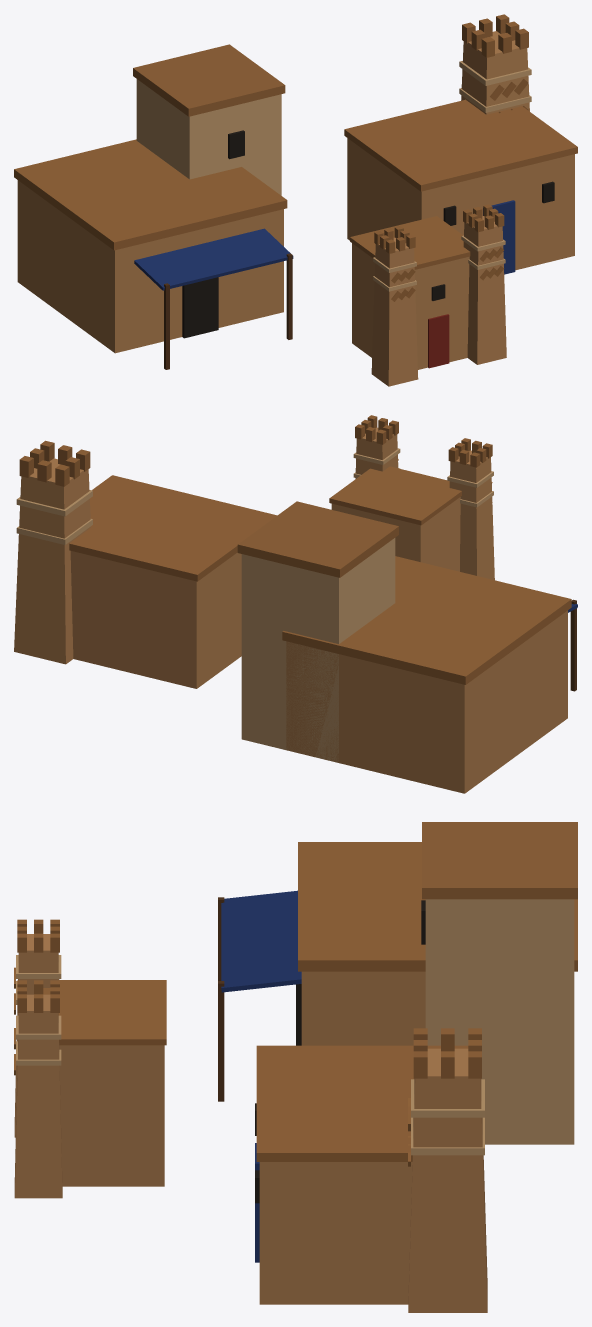
Rendered from fennec_compound_broken.glb.
3 views of the same model, one above another, from view 1: azimuth 30°, elevation 25°; view 2: azimuth 150°, elevation 25°; view 3: azimuth 270°, elevation 25° (orthographic). The views are drawn at different scales.
Parts seen in each view (by area): view 1: fennec_compound_piece1, fennec_compound_piece7, fennec_compound_piece2, fennec_compound_piece0, fennec_compound_piece10, fennec_compound_piece3, fennec_compound_piece6, fennec_compound_piece11, fennec_compound_piece4, fennec_compound_piece5, fennec_compound_piece13; view 2: fennec_compound_piece1, fennec_compound_piece2, fennec_compound_piece3, fennec_compound_piece6, fennec_compound_piece7, fennec_compound_piece0, fennec_compound_piece9, fennec_compound_piece13, fennec_compound_piece4, fennec_compound_piece10, fennec_compound_piece5; view 3: fennec_compound_piece2, fennec_compound_piece3, fennec_compound_piece7, fennec_compound_piece10, fennec_compound_piece0, fennec_compound_piece11, fennec_compound_piece6, fennec_compound_piece5, fennec_compound_piece1, fennec_compound_piece4.
Boxes of the visible parts, left/top/right/bottom form: fennec_compound_piece1: left=14, top=154, right=209, bottom=369; fennec_compound_piece7: left=351, top=204, right=506, bottom=386; fennec_compound_piece2: left=133, top=44, right=285, bottom=224; fennec_compound_piece0: left=88, top=142, right=292, bottom=339; fennec_compound_piece10: left=457, top=119, right=577, bottom=274; fennec_compound_piece3: left=349, top=41, right=539, bottom=240; fennec_compound_piece6: left=344, top=14, right=528, bottom=202; fennec_compound_piece11: left=208, top=193, right=293, bottom=293; fennec_compound_piece4: left=347, top=120, right=454, bottom=239; fennec_compound_piece5: left=364, top=170, right=470, bottom=235; fennec_compound_piece13: left=76, top=141, right=131, bottom=168; fennec_compound_piece1: left=333, top=591, right=577, bottom=793; fennec_compound_piece2: left=237, top=501, right=475, bottom=735; fennec_compound_piece3: left=14, top=499, right=274, bottom=687; fennec_compound_piece6: left=16, top=440, right=220, bottom=651; fennec_compound_piece7: left=353, top=415, right=494, bottom=580; fennec_compound_piece0: left=344, top=576, right=539, bottom=648; fennec_compound_piece9: left=241, top=635, right=347, bottom=757; fennec_compound_piece13: left=316, top=645, right=424, bottom=761; fennec_compound_piece4: left=107, top=533, right=251, bottom=688; fennec_compound_piece10: left=90, top=475, right=231, bottom=509; fennec_compound_piece5: left=227, top=481, right=406, bottom=525; fennec_compound_piece2: left=298, top=822, right=577, bottom=1144; fennec_compound_piece3: left=256, top=1045, right=487, bottom=1312; fennec_compound_piece7: left=14, top=919, right=166, bottom=1198; fennec_compound_piece10: left=255, top=1075, right=380, bottom=1304; fennec_compound_piece0: left=218, top=862, right=425, bottom=1101; fennec_compound_piece11: left=218, top=915, right=397, bottom=1045; fennec_compound_piece6: left=387, top=1028, right=484, bottom=1163; fennec_compound_piece5: left=103, top=989, right=273, bottom=1154; fennec_compound_piece1: left=218, top=842, right=421, bottom=980; fennec_compound_piece4: left=322, top=1045, right=410, bottom=1101.
Bounding box in the file's own units: 5.99 × 2.3 × 4.55.
